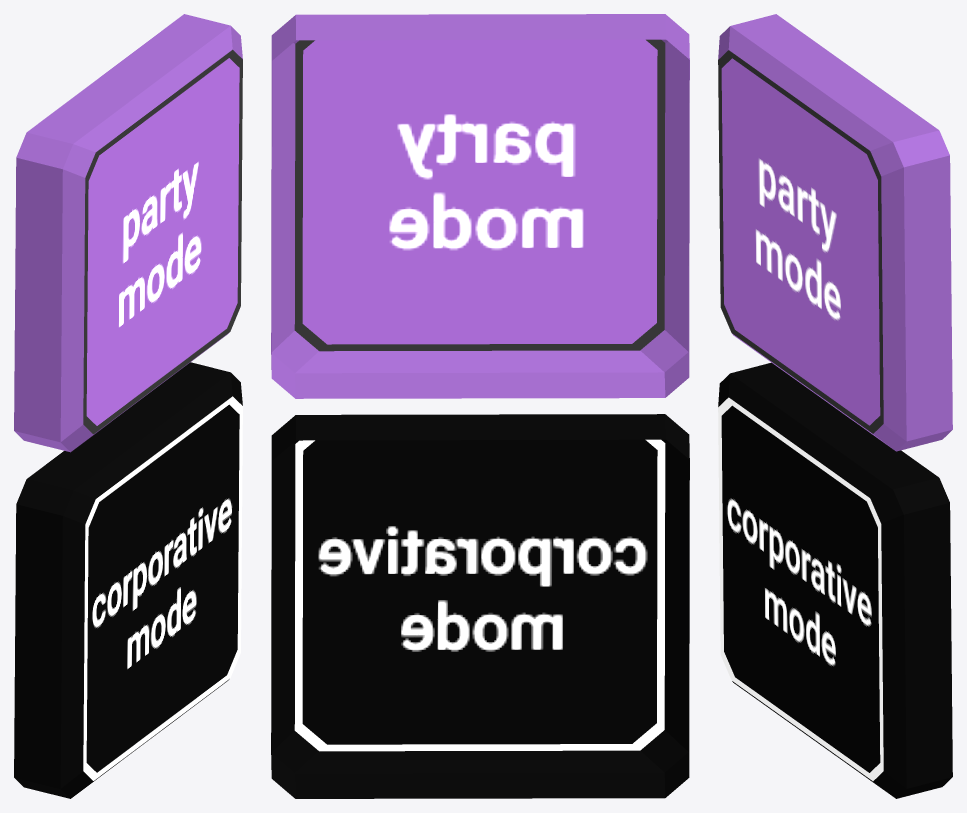
Rendered from modeButtons.glb.
3 renders of one model, left to right at view 1: azimuth 30°, elevation 25°; view 2: azimuth 150°, elevation 25°; view 3: azimuth 270°, elevation 25°, orthographic. The views are drawn at different scales.
Parts seen in each view (by area): view 1: p00_buttons_01.004, p00_buttons_01.005; view 2: p00_buttons_01.005, p00_buttons_01.004; view 3: p00_buttons_01.004, p00_buttons_01.005.
Part boxes in pixels (x1,y1,x2,y2): p00_buttons_01.004: [14, 14, 242, 452]; p00_buttons_01.005: [14, 362, 242, 798]; p00_buttons_01.005: [271, 414, 689, 798]; p00_buttons_01.004: [271, 14, 689, 398]; p00_buttons_01.004: [718, 14, 952, 451]; p00_buttons_01.005: [718, 362, 952, 798].
Size of what is drawn, in the model's own units: 0.6967 by 1.49 by 0.4805.
Materials: 1 (1 with a texture image).
